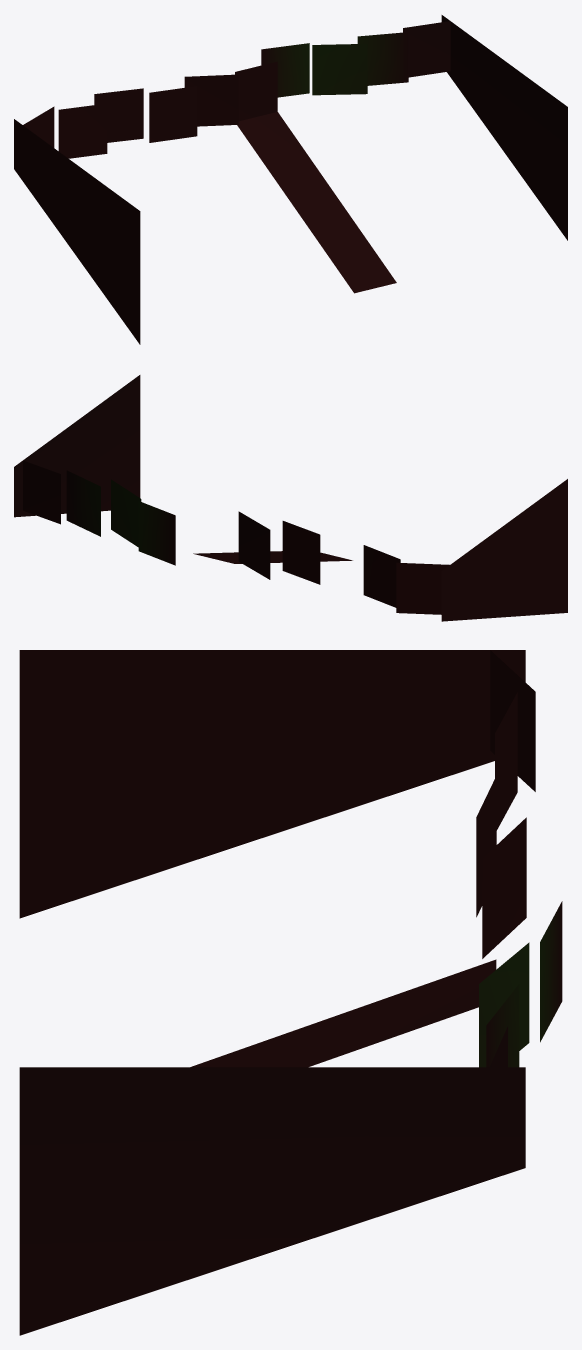
The model's file is tf_basalt_ledge_8m_lod1.glb.
3 renders of one model, top to bottom at view 1: azimuth 30°, elevation 25°; view 2: azimuth 150°, elevation 25°; view 3: azimuth 270°, elevation 25°, orthographic. The views are drawn at different scales.
Visible parts, largest first — view 1: tf_basalt_ledge_8m_lod1; view 2: tf_basalt_ledge_8m_lod1; view 3: tf_basalt_ledge_8m_lod1.
Part boxes in pixels (x1=…): tf_basalt_ledge_8m_lod1: x1=14, y1=15, x2=567, y2=344; tf_basalt_ledge_8m_lod1: x1=14, y1=375, x2=567, y2=621; tf_basalt_ledge_8m_lod1: x1=19, y1=650, x2=562, y2=1335.
Size of the model in its own units: 8 by 2.4 by 4.4.
